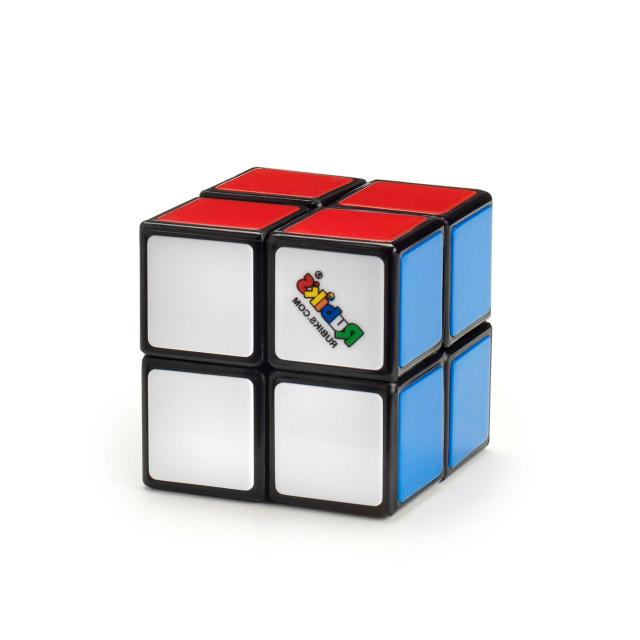cube: (145, 165, 492, 516)
